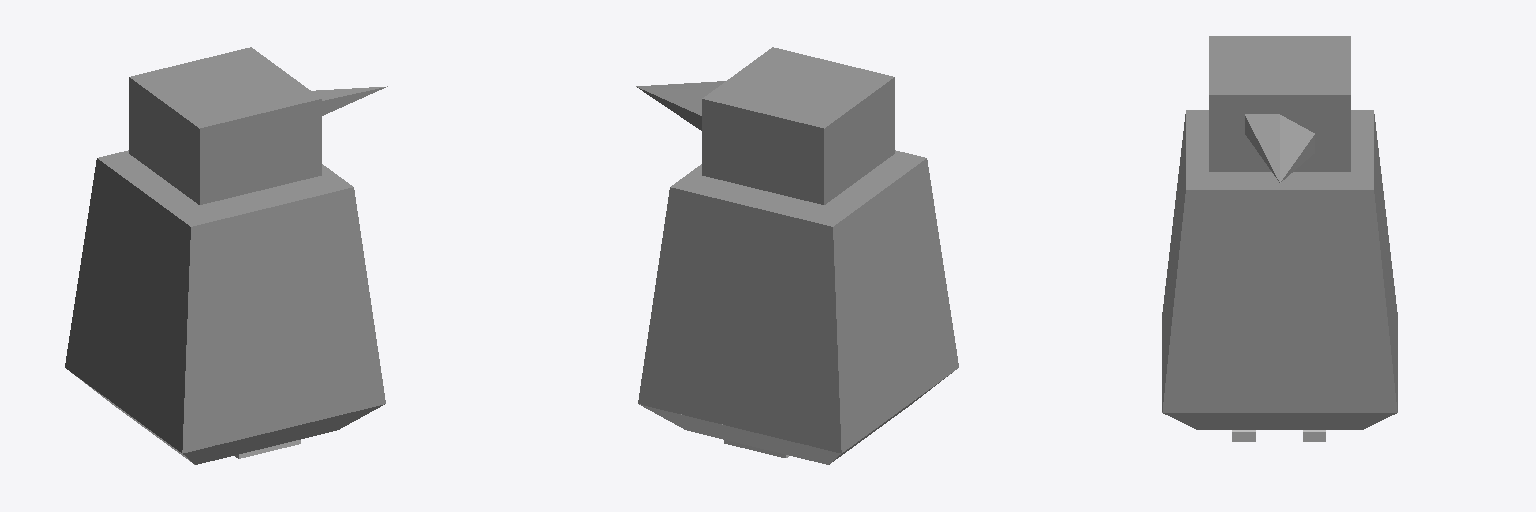
File: person.obj
3 views of the same model, side by side, from view 1: azimuth 30°, elevation 25°; view 2: azimuth 150°, elevation 25°; view 3: azimuth 270°, elevation 25° (orthographic).
Parts seen in each view (by area): view 1: Cube; view 2: Cube; view 3: Cube.
Boxes of the visible parts, x1=… form: Cube: x1=65, y1=47, x2=387, y2=464; Cube: x1=636, y1=47, x2=958, y2=464; Cube: x1=1162, y1=36, x2=1397, y2=429.
Bounding box in the file's own units: 2.6 × 3.29 × 2.